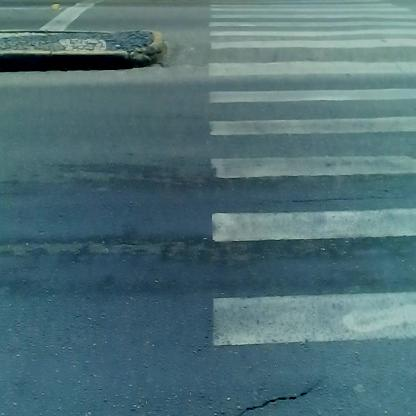crosswalk: (206, 4, 416, 377)
